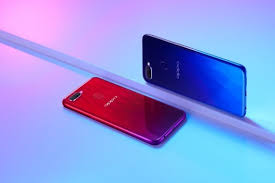oppo: (138, 31, 251, 118)
